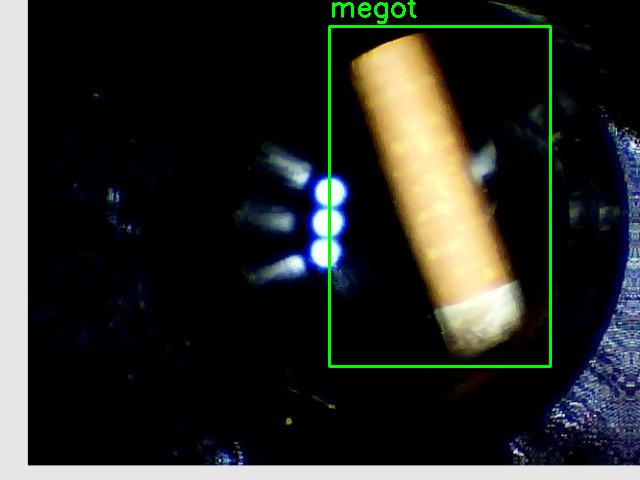megot: (329, 26, 550, 366)
